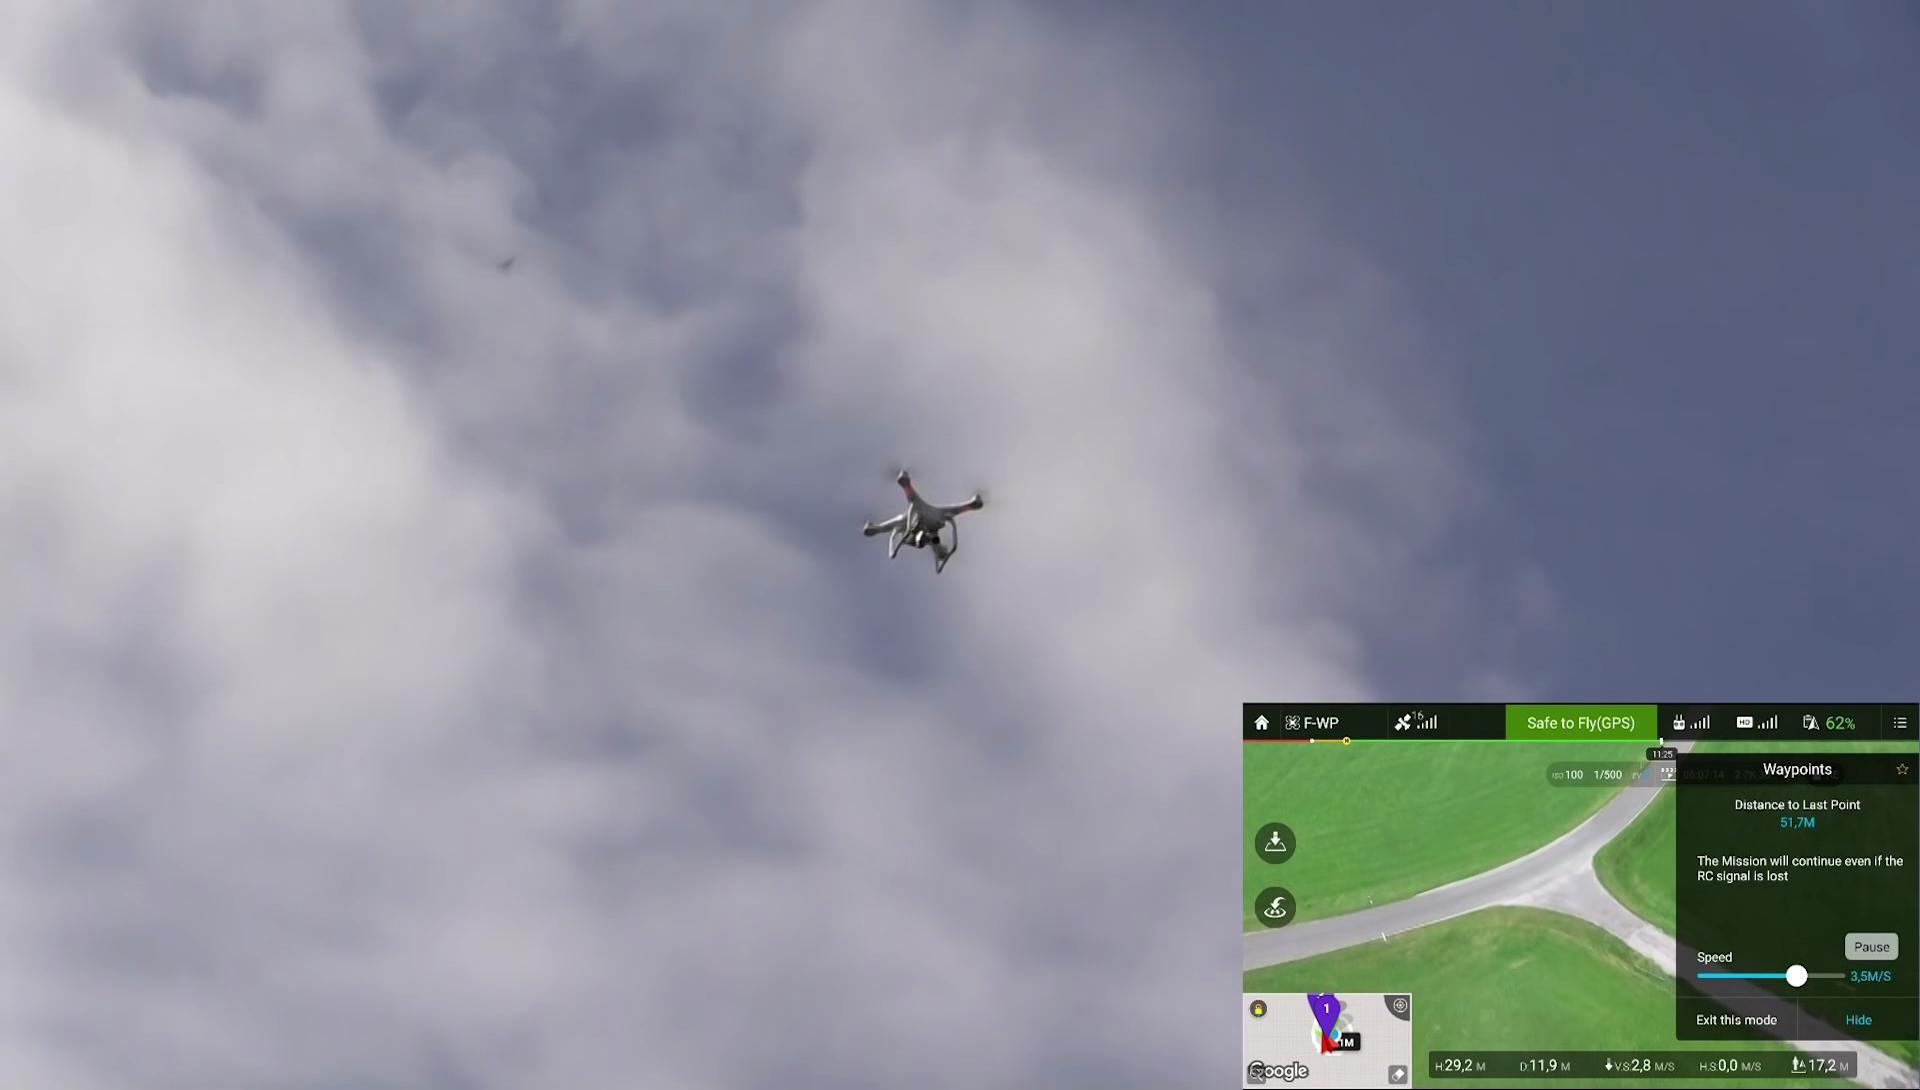drone: (851, 463, 992, 580)
